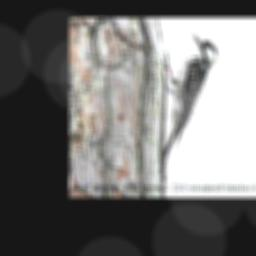Woodpecker: (161, 34, 219, 172)
